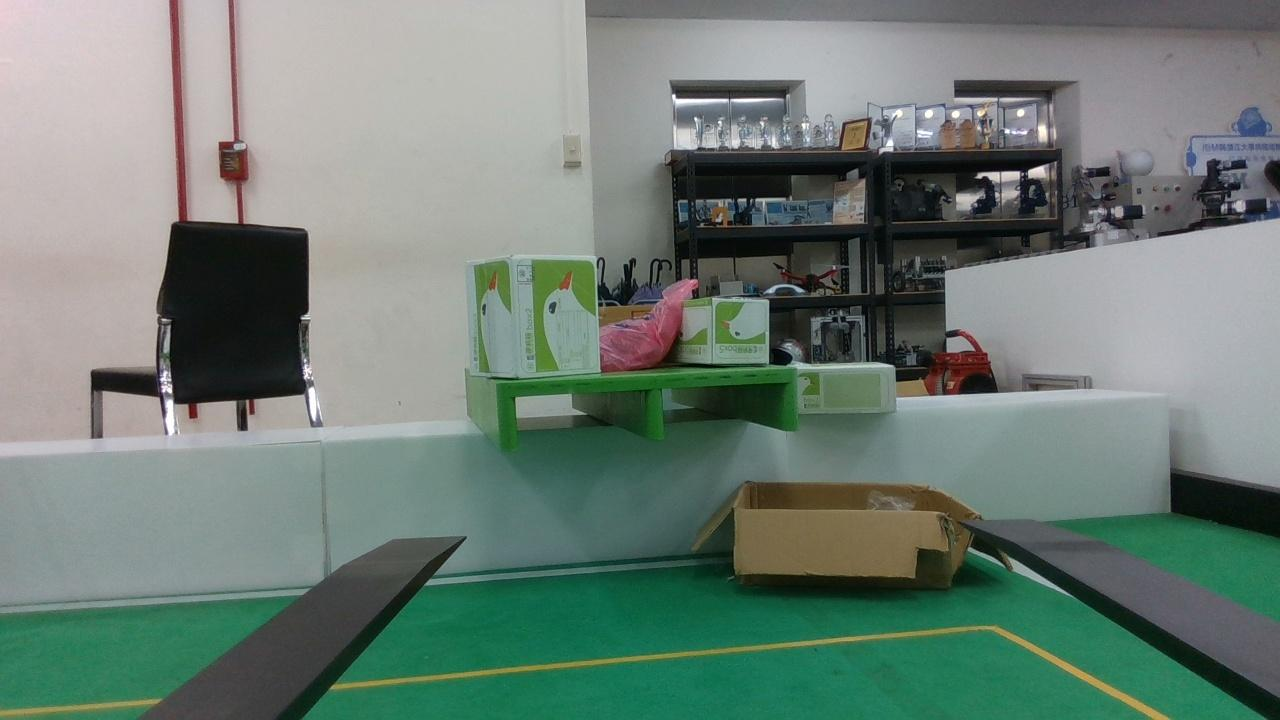Pallet: (498, 364, 800, 447)
